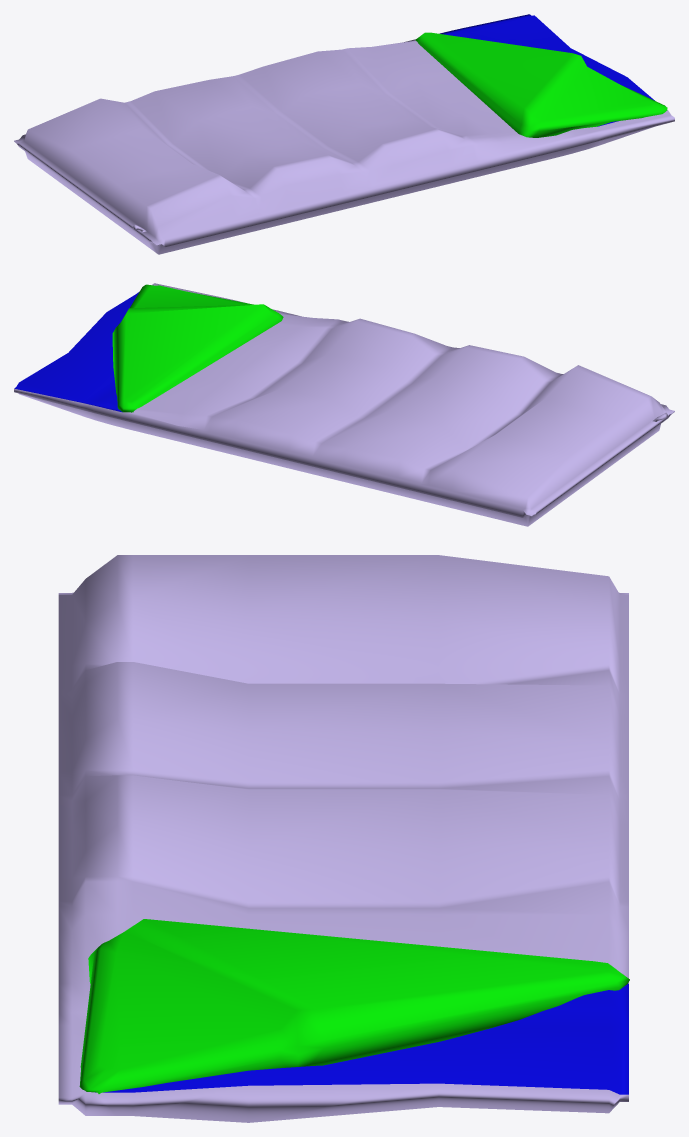
Rendered from sac_de_couchage_03_Low.fbx.
The picture shows the model from 3 angles, top to bottom: view 1: azimuth 30°, elevation 25°; view 2: azimuth 150°, elevation 25°; view 3: azimuth 270°, elevation 25°; orthographic projection. The views are drawn at different scales.
Visible parts, largest first — view 1: sac_de_couchage_03_Low; view 2: sac_de_couchage_03_Low; view 3: sac_de_couchage_03_Low.
Boxes of the visible parts, box(x1,y1,x2,y2) form: sac_de_couchage_03_Low: box(14, 14, 674, 254); sac_de_couchage_03_Low: box(14, 283, 674, 526); sac_de_couchage_03_Low: box(58, 555, 629, 1122).
Bounding box in the file's own units: 2.13 × 0.2067 × 1.
